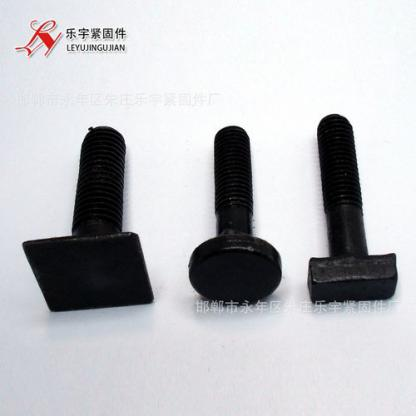FOD: (19, 124, 159, 313), (304, 110, 400, 312), (188, 122, 286, 308)
